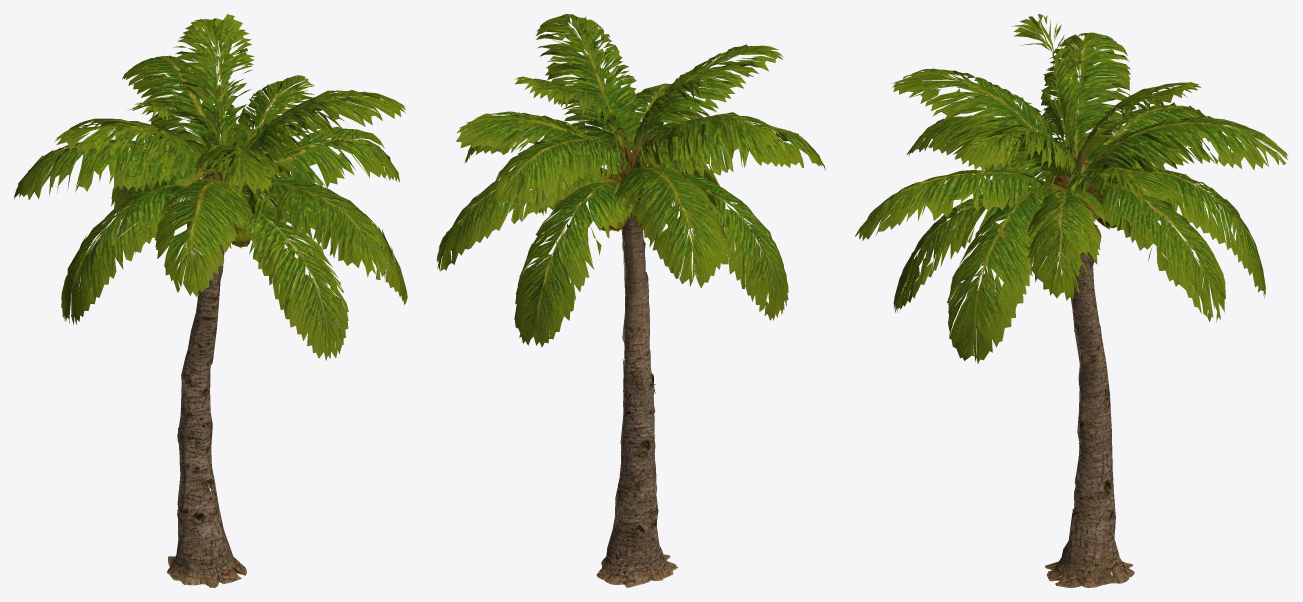
Rendered from coqueiro_b.glb.
3 renders of one model, left to right at view 1: azimuth 30°, elevation 25°; view 2: azimuth 150°, elevation 25°; view 3: azimuth 270°, elevation 25°, orthographic. The views are drawn at different scales.
Visible parts, largest first — view 1: Object_4; view 2: Object_4; view 3: Object_4.
Boxes of the visible parts, bbox=[...] form: Object_4: bbox=[14, 14, 407, 587]; Object_4: bbox=[436, 14, 825, 587]; Object_4: bbox=[854, 14, 1287, 587].
Bounding box in the file's own units: 0.6372 × 0.9559 × 0.7275.
1 material, 1 textured.
